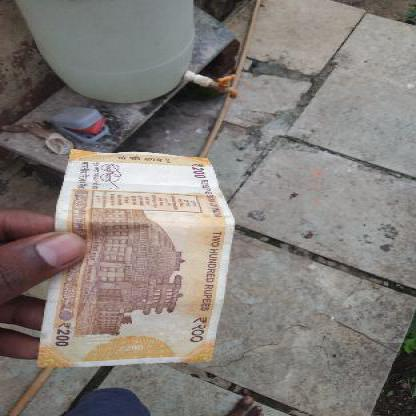New200Back: (42, 152, 235, 366)
